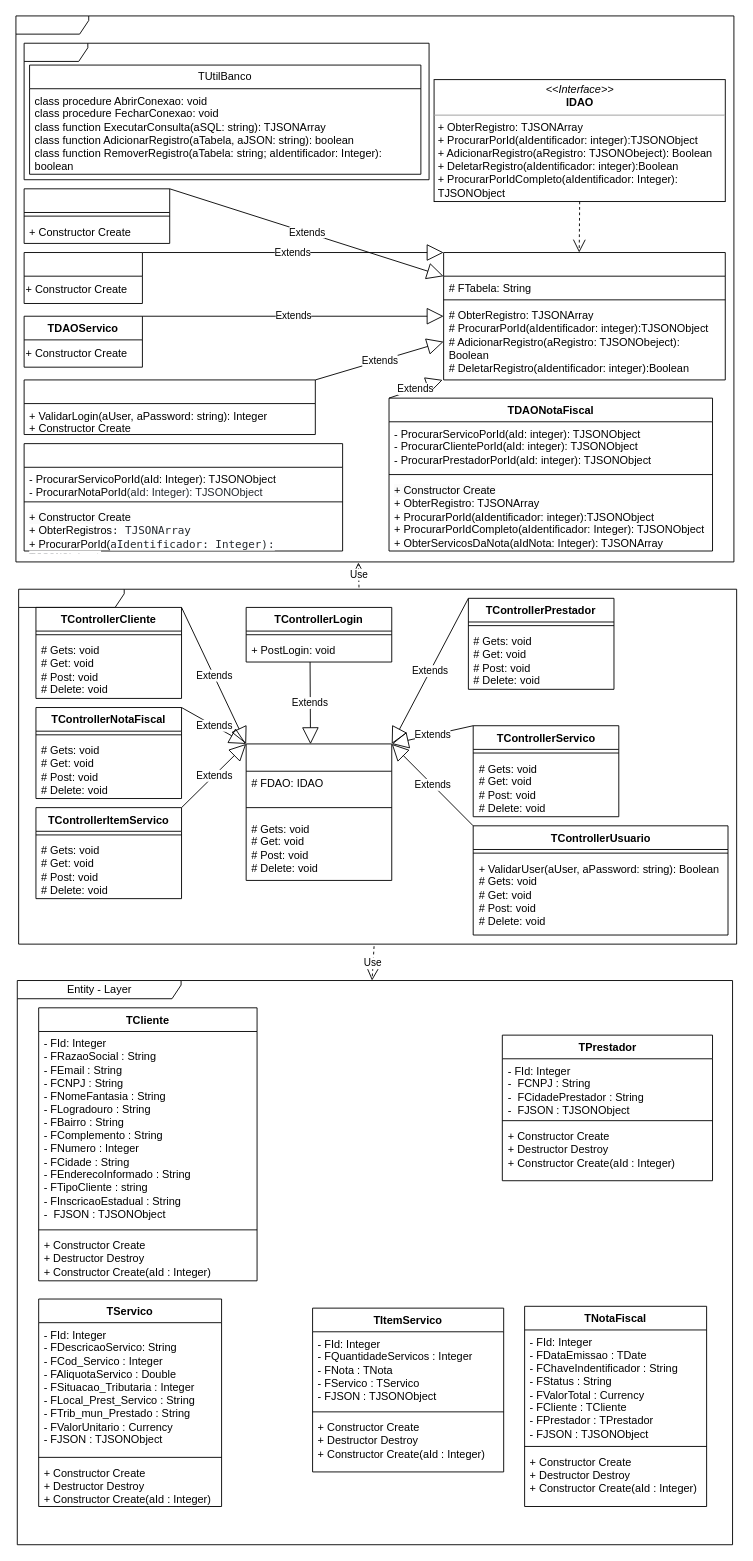
Some shapes in this 753 by 1561 pixel diagram are drawn without their labels. The shapes that lost their labels are listed below. From the top down, each one's box as (x1, y1, x2, y2) in pixels, then its label:
(23, 42, 429, 180): Functions
(23, 188, 170, 243): TDAOCliente
(23, 252, 142, 303): TDAOPrestador
(15, 15, 734, 562): Dao - Layer
(443, 252, 725, 380): TDAOBase
(23, 379, 315, 435): TDAOUsuario
(23, 443, 343, 551): TDAOItemServico
(18, 588, 737, 944): Controller - Layer
(245, 743, 392, 880): TControllerBase
